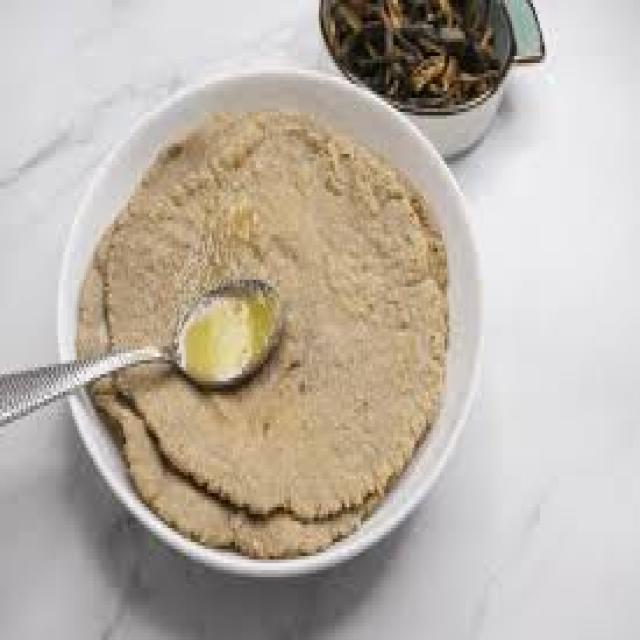DOSA: (84, 108, 442, 528)
